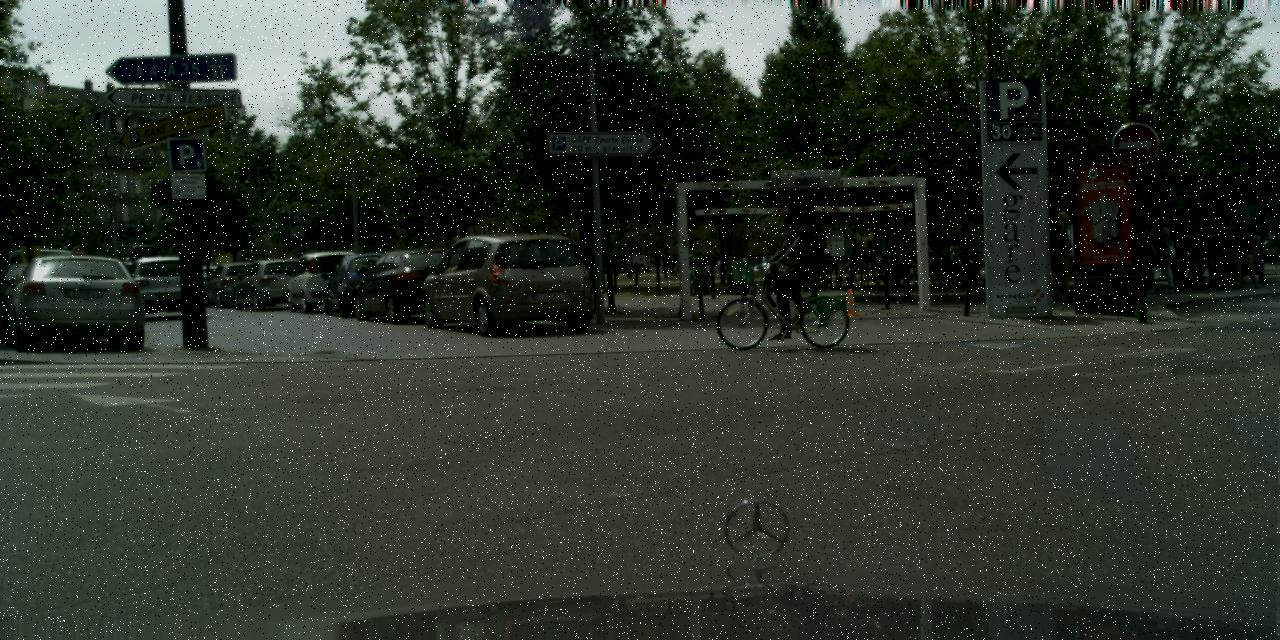ped: (764, 204, 816, 332), (1042, 212, 1080, 302), (1150, 215, 1182, 294), (1214, 210, 1245, 288), (1228, 212, 1258, 288), (1199, 215, 1228, 287), (928, 230, 948, 282)
